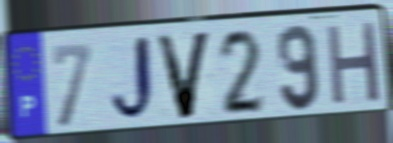2: (218, 28, 266, 116)
7: (50, 39, 96, 130)
9: (275, 22, 323, 115)
H: (325, 18, 383, 109)
J: (107, 32, 157, 128)
V: (153, 29, 215, 124)
